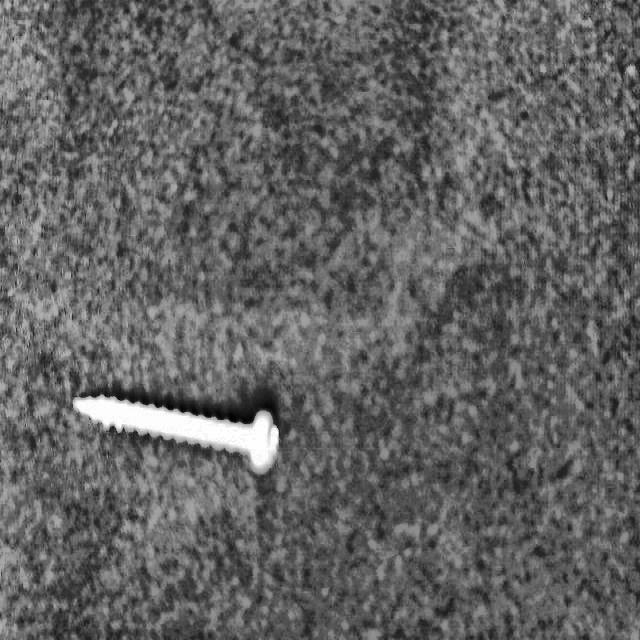Sheet metal screw: (71, 392, 280, 472)
